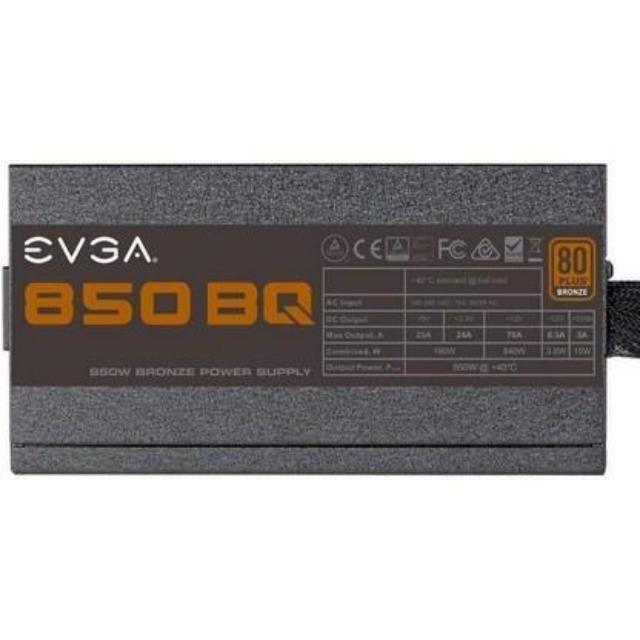PSU: (0, 148, 635, 497)
